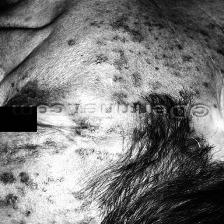Potentially Malignant Skin Tumors: (0, 168, 47, 222), (8, 81, 72, 106), (112, 19, 144, 44)
